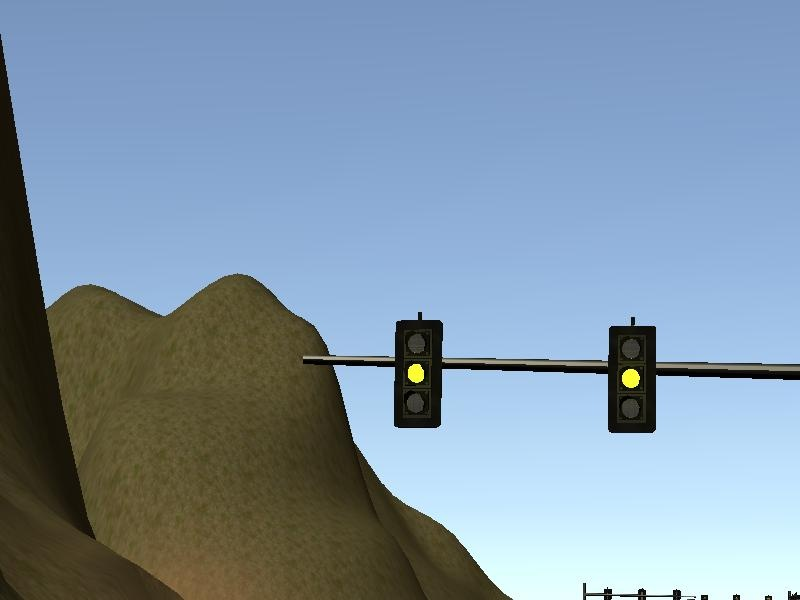YELLOW: (604, 324, 660, 434), (392, 317, 444, 430)
